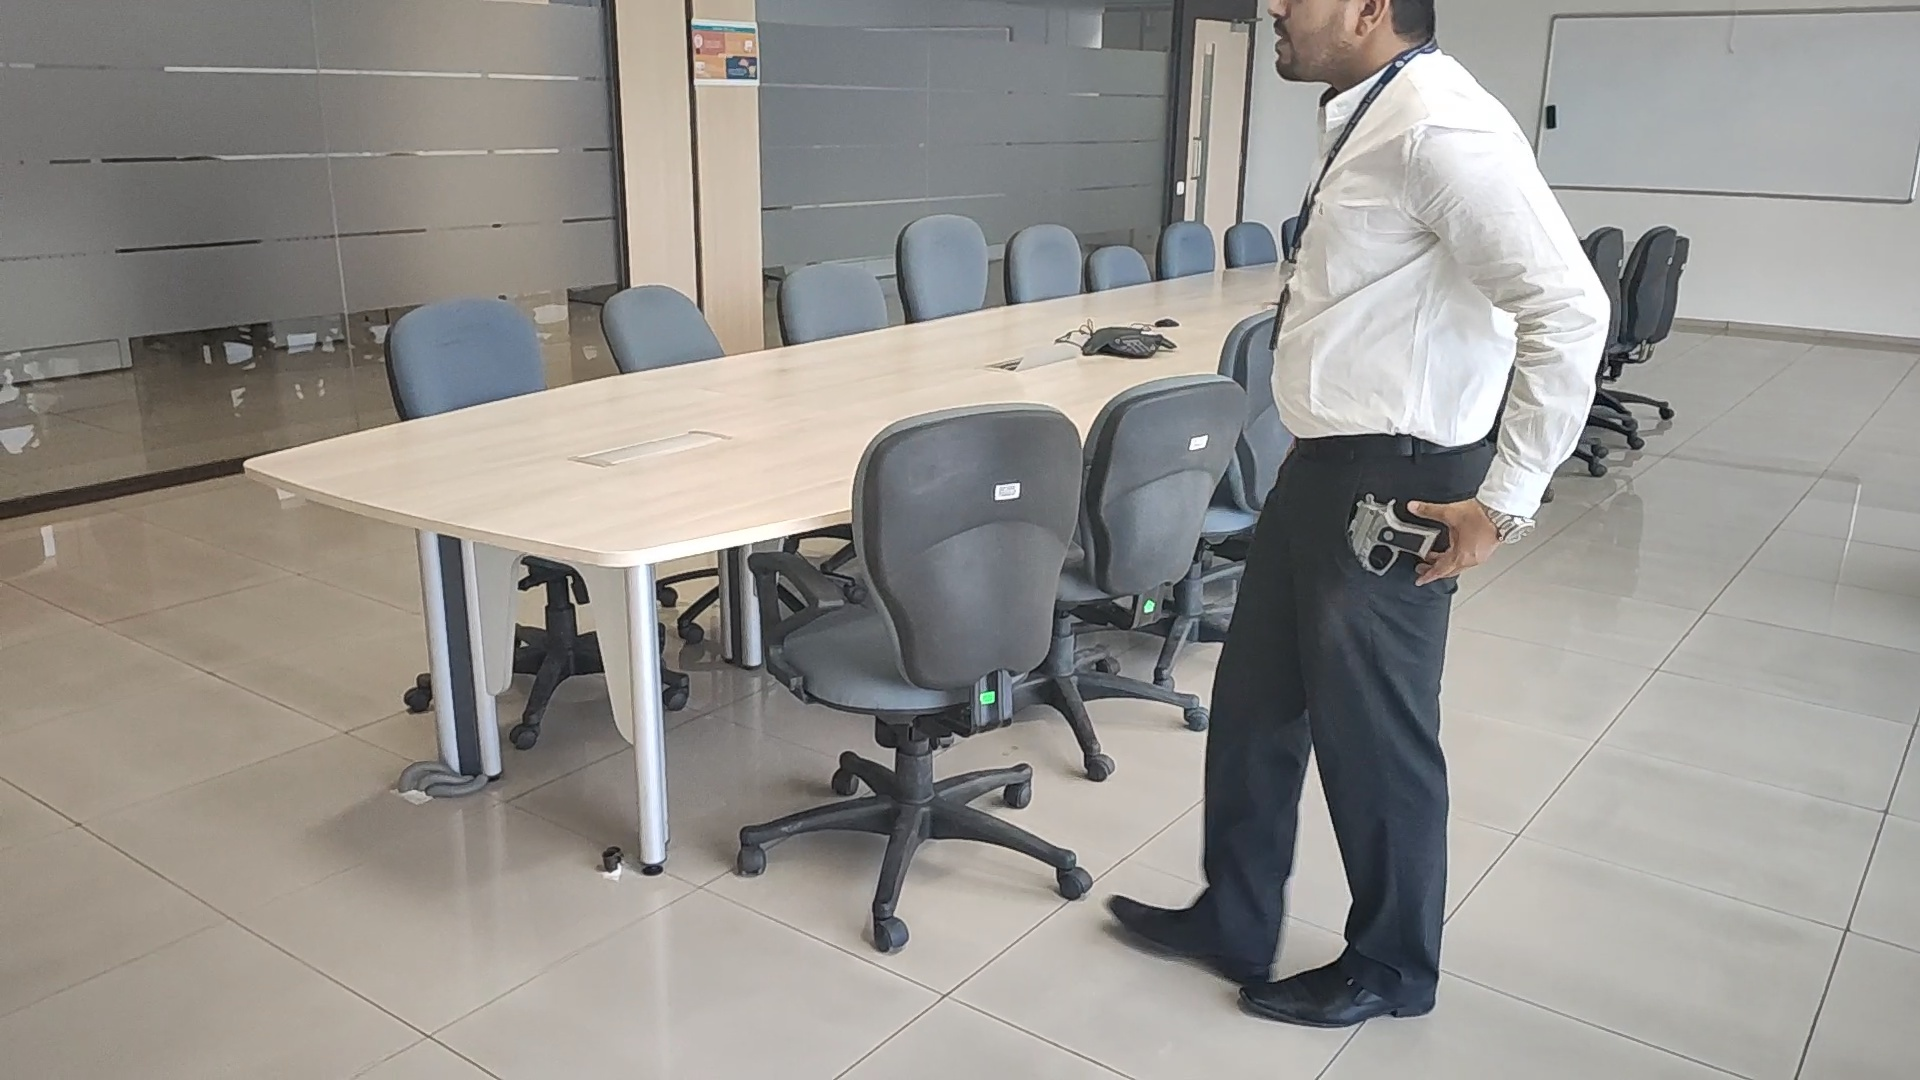gun: (1349, 493, 1441, 575)
